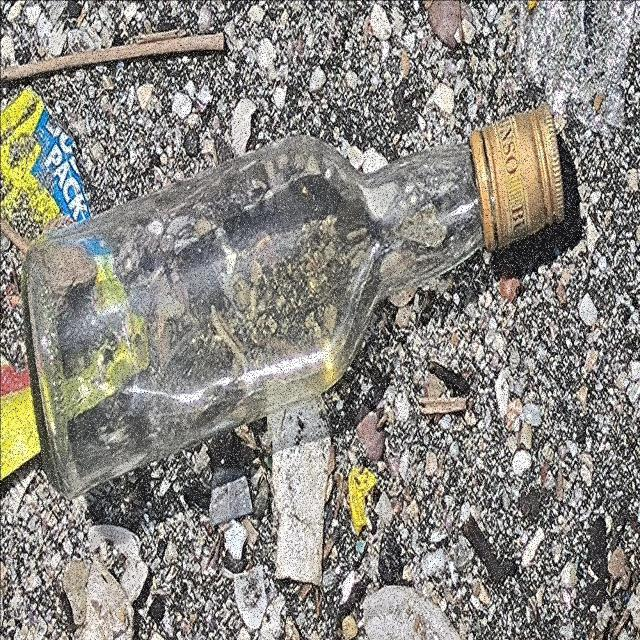glass_waste: (26, 102, 568, 500)
